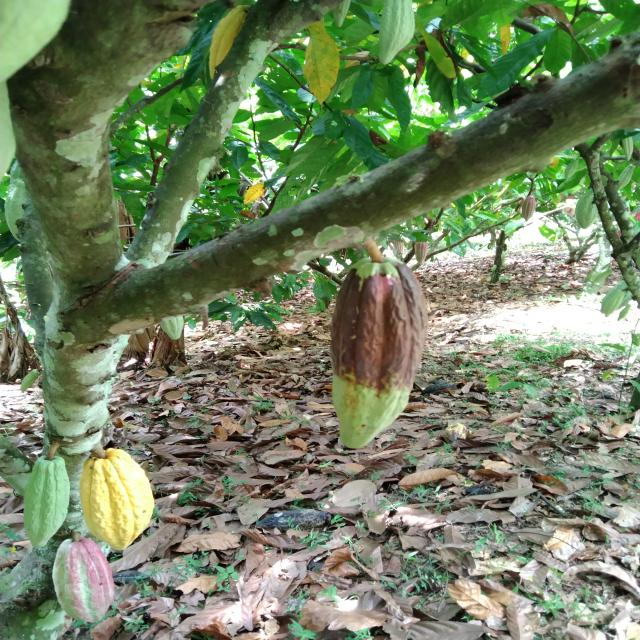Fitoftora: (331, 259, 424, 450)
Sana: (81, 453, 157, 548), (46, 544, 114, 622), (23, 454, 66, 548)
